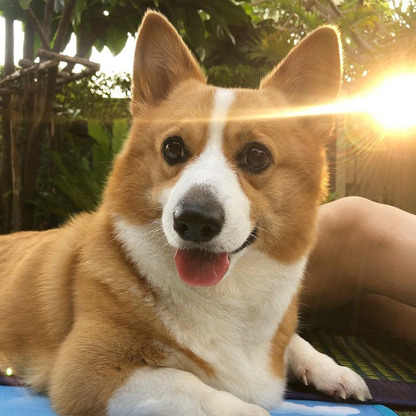Corgi: (85, 9, 358, 412)
